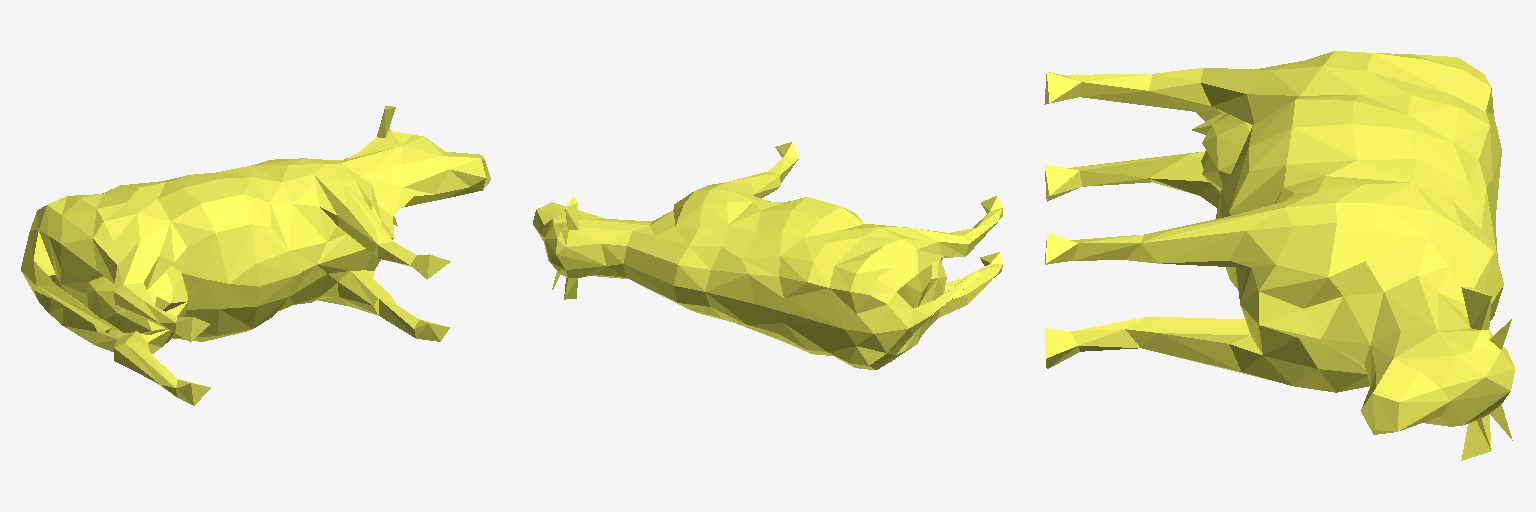
robot.urdf — cube.urdf:
<?xml version="0.0" ?>
<robot name="cube.urdf">
  <link name="baseLink">
    <contact>
      <lateral_friction value="1.0"/>
      <rolling_friction value="0.0"/>
      <contact_cfm value="0.0"/>
      <contact_erp value="1.0"/>
    </contact>
    <inertial>
      <origin rpy="0 0 0" xyz="0.0 0.02 0.0"/>
       <mass value=".1"/>
       <inertia ixx="1" ixy="0" ixz="0" iyy="1" iyz="0" izz="1"/>
    </inertial>
    <visual>
      <origin rpy="0 0 0" xyz="0 0 0"/>
      <geometry>
        <mesh filename="cow.obj" scale=".05 .05 .05"/>
      </geometry>
       <material name="yellow">
        <color rgba="1 1 0.4 1"/>
      </material>
    </visual>
    <collision>
      <origin rpy="0 0 0" xyz="0 0 0"/>
      <geometry>
	 	<mesh filename="cow.obj" scale=".05 .05 .05"/>
      </geometry>
    </collision>
  </link>
</robot>

--- Facts derived from the render (not from the file) ---
3 views of the same robot in one strip: view 1: azimuth 30°, elevation 25°; view 2: azimuth 150°, elevation 25°; view 3: azimuth 270°, elevation 25° (orthographic).
Model cube.urdf with 1 links and 0 joints (none), rooted at baseLink, posed all joints at 0.
Visible links, largest first — view 1: baseLink; view 2: baseLink; view 3: baseLink.
Boxes of the visible links, x1,y1,x2,y2 form: baseLink: (21, 106, 490, 405); baseLink: (533, 142, 1002, 369); baseLink: (1044, 51, 1514, 460).
Bounding box of the posed robot: 72.8 × 45.14 × 21.91 m (x, y, z).
Meshes: 1 distinct files referenced, 1 mesh visuals loaded (1 OBJ).